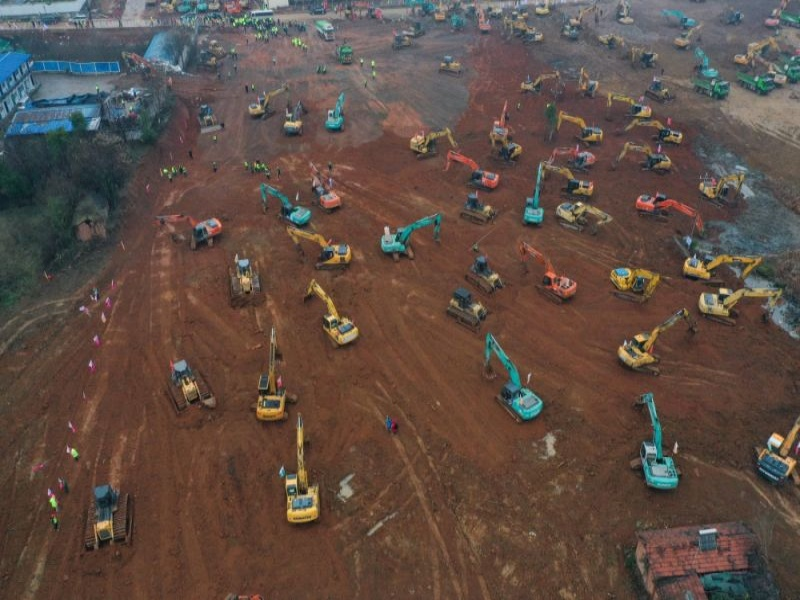excavator: (476, 331, 544, 426), (616, 305, 698, 377), (625, 391, 681, 494), (279, 416, 324, 532), (299, 280, 360, 354), (634, 193, 716, 245), (515, 243, 577, 308), (698, 286, 784, 331), (252, 329, 290, 430), (285, 226, 354, 273), (378, 210, 441, 261), (679, 254, 767, 285), (606, 141, 677, 179), (156, 212, 223, 252), (441, 152, 498, 195), (555, 201, 614, 239), (693, 169, 749, 209), (255, 182, 308, 224), (546, 111, 604, 149), (408, 125, 461, 162), (309, 175, 347, 216), (246, 85, 288, 122), (620, 120, 684, 144), (487, 97, 514, 151), (515, 69, 565, 96), (500, 18, 545, 47), (605, 93, 655, 119), (280, 97, 309, 139), (322, 92, 348, 135), (671, 23, 706, 54), (594, 28, 626, 54), (575, 68, 600, 100), (630, 46, 660, 71)
vehicle: (80, 481, 134, 554), (161, 358, 216, 418), (442, 287, 488, 330), (225, 257, 264, 305), (464, 255, 504, 293), (688, 75, 729, 102), (738, 70, 776, 99), (194, 105, 223, 135), (435, 54, 463, 79), (313, 18, 335, 43)
